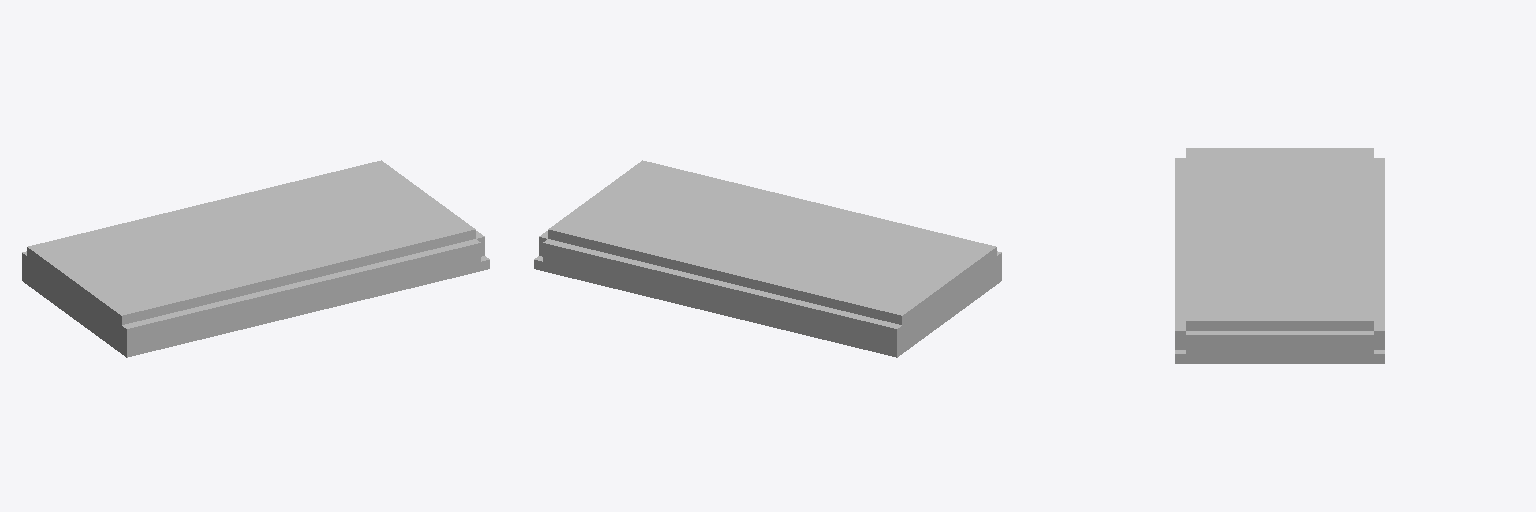
Rendered from bed.obj.
3 views of the same model, side by side, from view 1: azimuth 30°, elevation 25°; view 2: azimuth 150°, elevation 25°; view 3: azimuth 270°, elevation 25° (orthographic).
Parts seen in each view (by area): view 1: object 1; view 2: object 1; view 3: object 1.
Part boxes in pixels (left/top/right/bottom): object 1: left=22, top=160, right=489, bottom=357; object 1: left=534, top=160, right=1001, bottom=357; object 1: left=1175, top=148, right=1384, bottom=363.
Bounding box in the file's own units: 4 × 0.4 × 2.